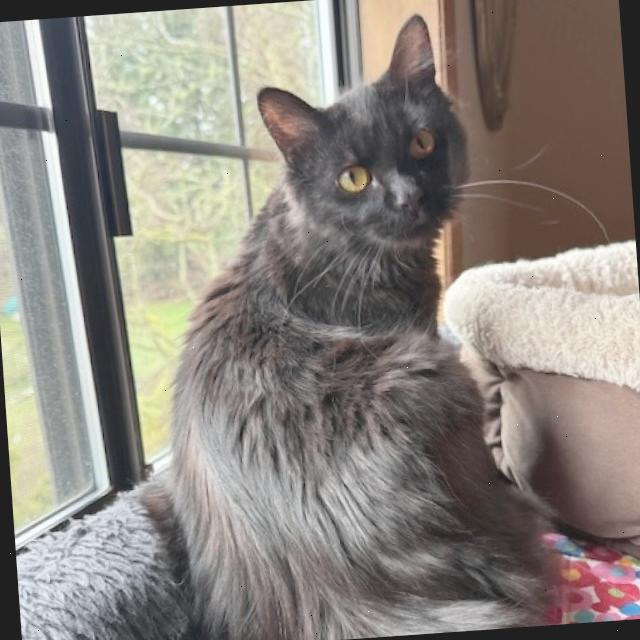domestic_long_hair_cat: (234, 0, 498, 298)
